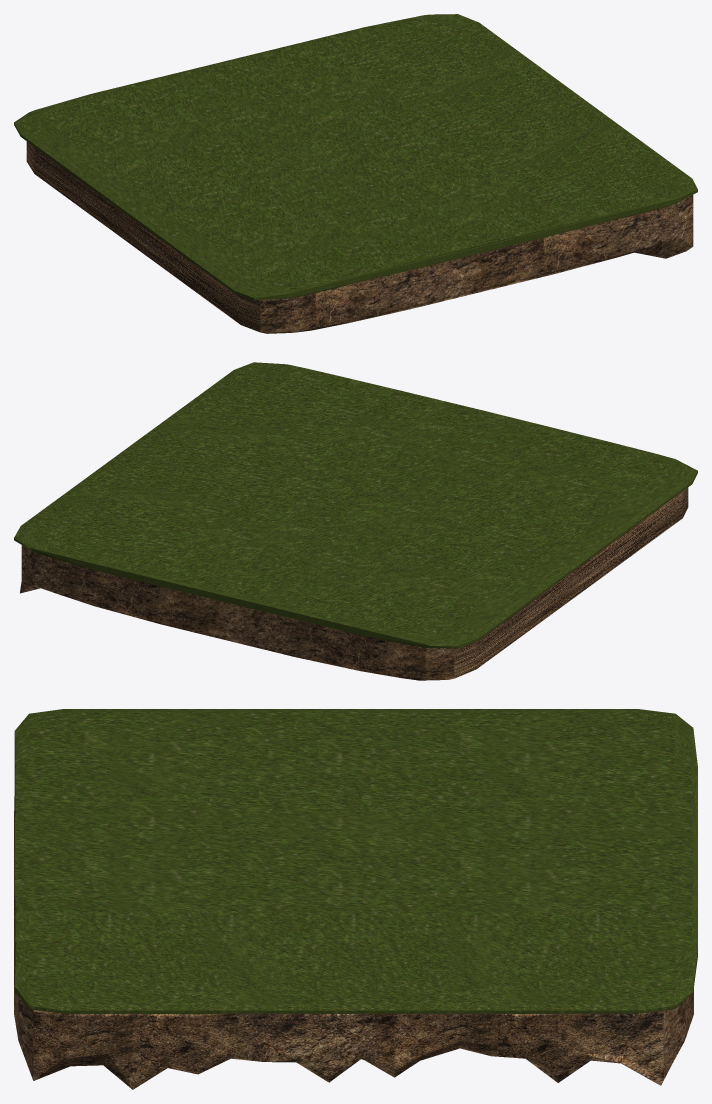
Rendered from ground_block3.dae.
3 views of the same model, one above another, from view 1: azimuth 30°, elevation 25°; view 2: azimuth 150°, elevation 25°; view 3: azimuth 270°, elevation 25° (orthographic). The views are drawn at different scales.
Parts seen in each view (by area): view 1: Grass, Dirt; view 2: Grass, Dirt; view 3: Grass, Dirt.
Part boxes in pixels (box(x1,y1,x2,y2)): Grass: box(14, 14, 697, 300); Dirt: box(26, 141, 693, 333); Grass: box(14, 362, 697, 648); Dirt: box(20, 487, 688, 680); Grass: box(14, 709, 697, 1013); Dirt: box(14, 796, 693, 1089).
Size of the model in its own units: 16.49 by 15.73 by 2.37.
2 materials, 2 textured.
